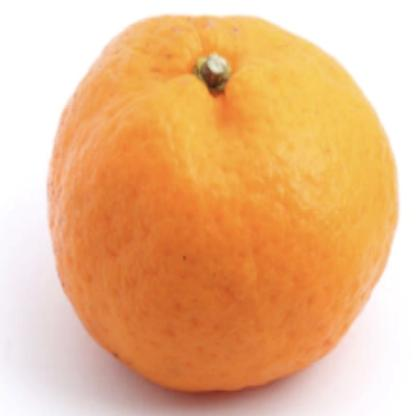fresh: (49, 12, 400, 393)
